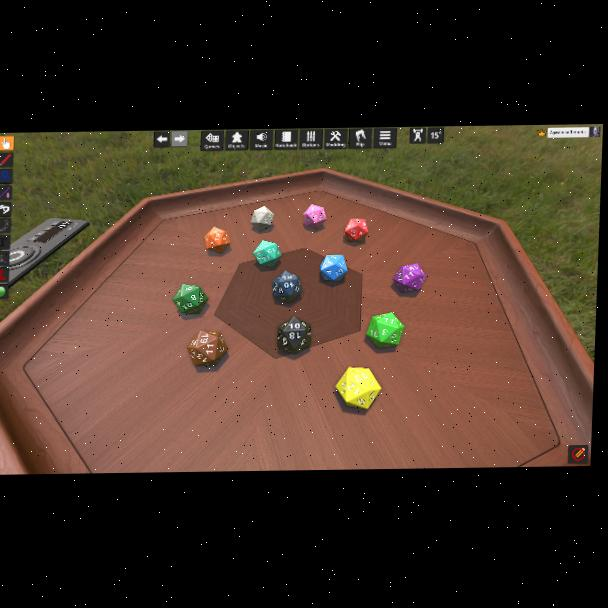d20: (337, 367, 382, 410), (186, 330, 228, 368), (275, 315, 310, 354), (365, 313, 402, 349), (172, 283, 206, 315), (270, 271, 301, 304), (392, 263, 425, 293), (252, 240, 282, 268), (203, 227, 230, 254), (319, 255, 346, 281), (250, 207, 275, 231), (344, 218, 368, 243), (303, 204, 325, 228)
